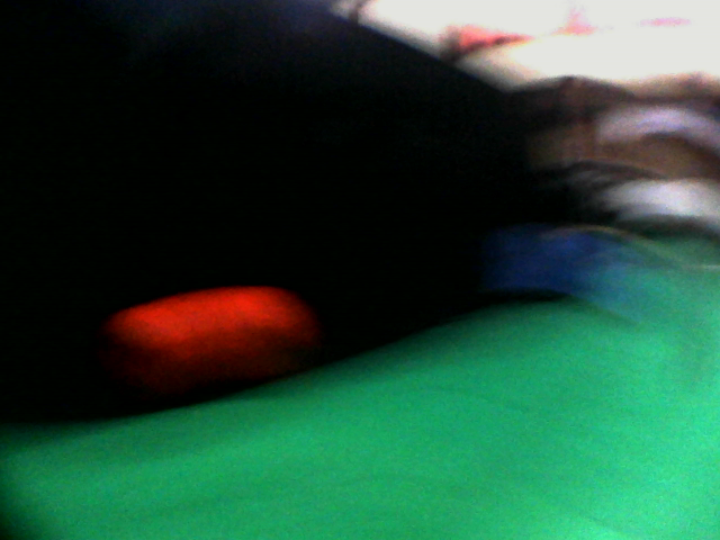bola: (106, 277, 320, 400)
